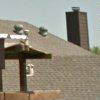Chimney: (59, 2, 97, 44)
